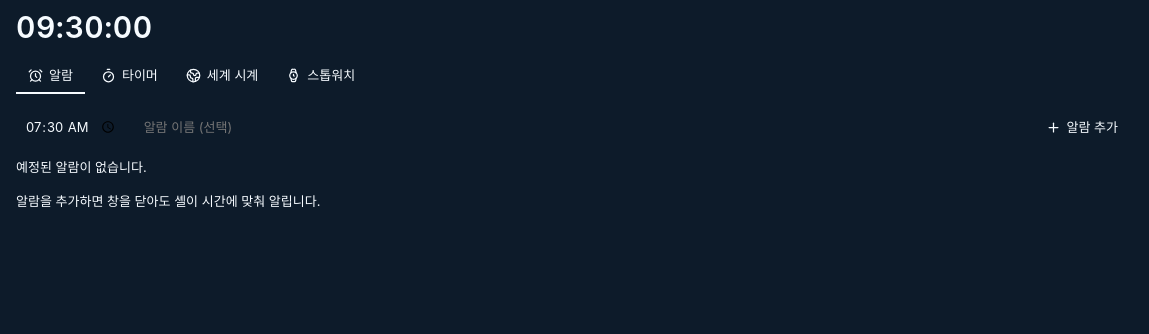
Test: 스톱워치 › runs, flags a lap, stops dead, and resets to zero
Click the tab "스톱워치" at (321, 76), box [274,58,367,94]
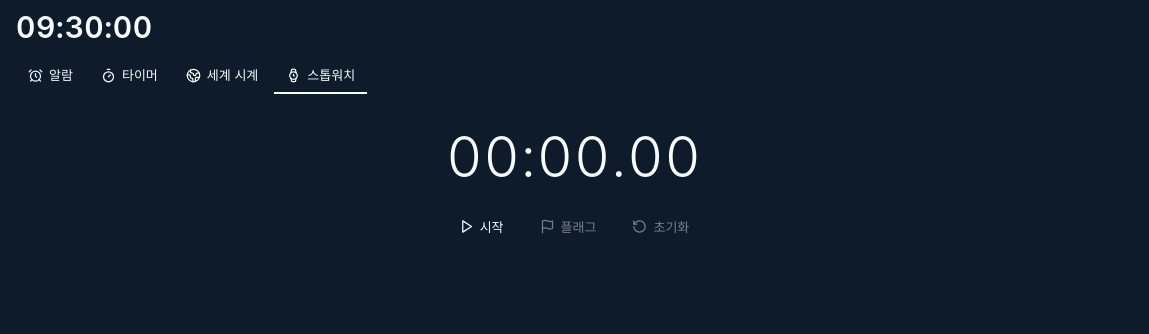
Expected: the text "00:00.00" is shown, [446,123,702,191]
Click the button "시작" at (481, 227), box [445,211,518,243]
Wait 5000 ms
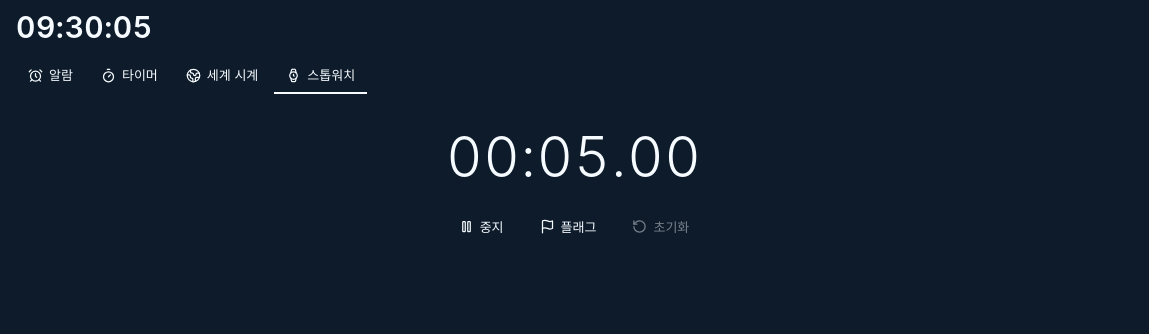
Expected: the text "00:05.00" is shown, [446,123,702,191]
Click the button "플래그" at (568, 227), box [526,211,610,243]
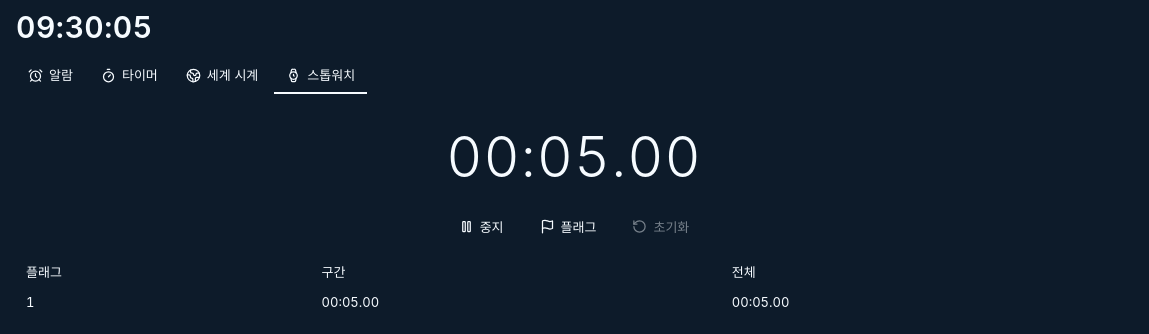
Expected: the table named "플래그 기록" is shown, [16,257,1132,317]
Expected: the number of rows is 2, [16,257,1132,287]; [16,287,1132,317]
Click the button "중지" at (481, 227), box [445,211,518,243]
Wait 10000 ms
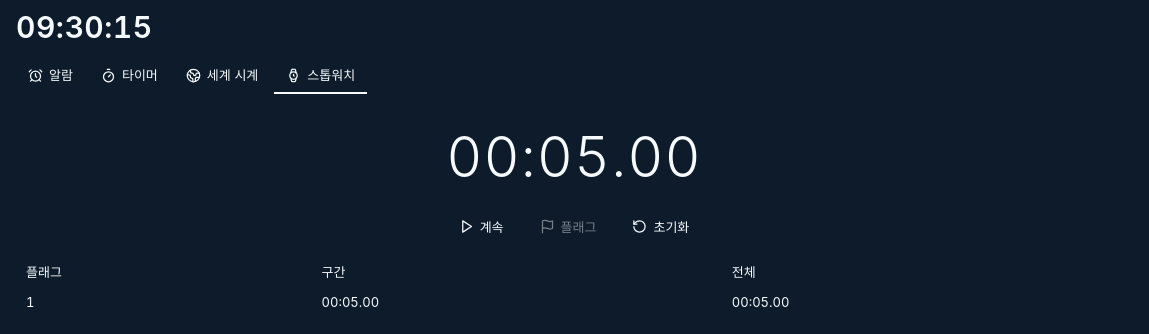
Expected: the text "00:05.00" is shown, [446,123,702,191]
Click the button "초기화" at (661, 227), box [618,211,703,243]
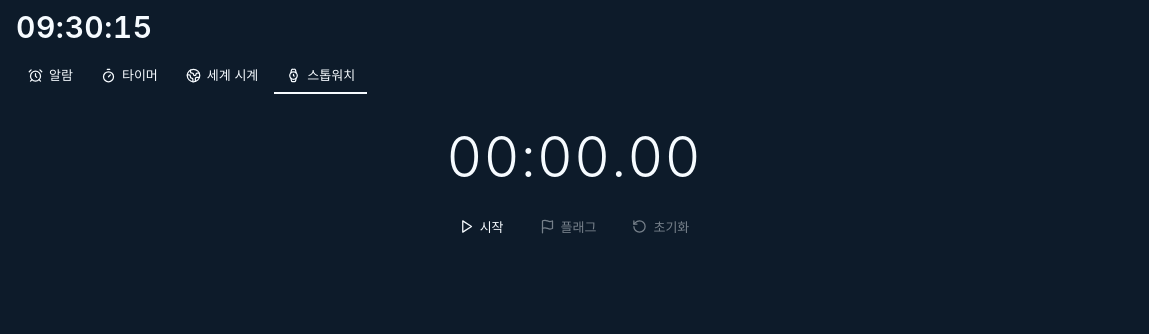
Expected: the text "00:00.00" is shown, [446,123,702,191]
